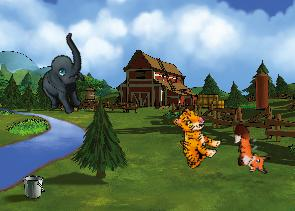elephant: (23, 32, 107, 120)
fox: (232, 122, 271, 176)
tiger: (158, 104, 228, 173)
